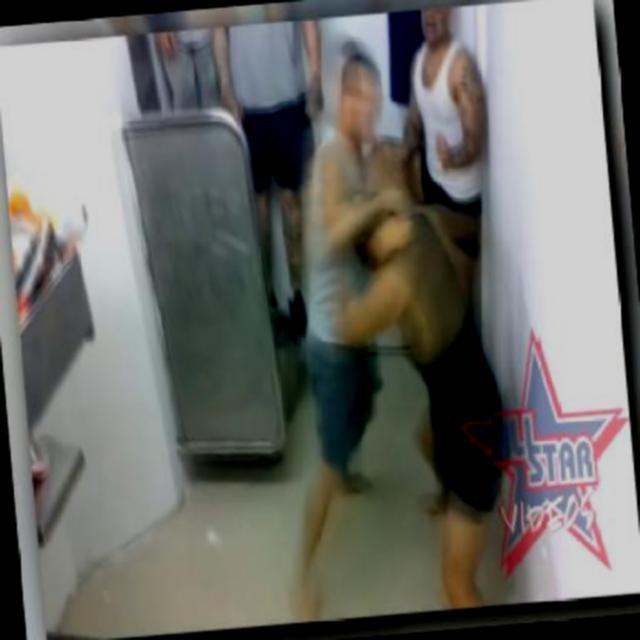fight: (286, 42, 506, 606)
